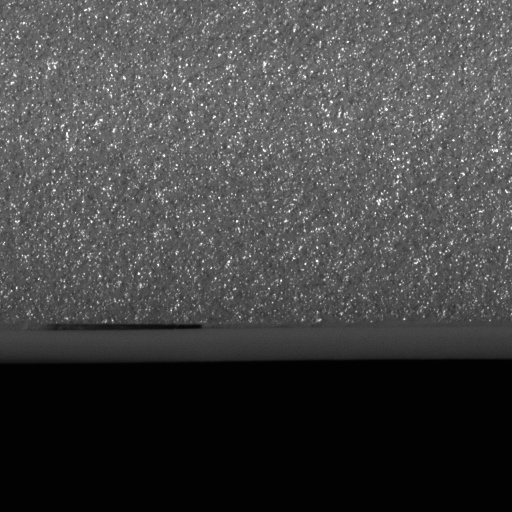jiaofeng: (43, 319, 206, 350)
